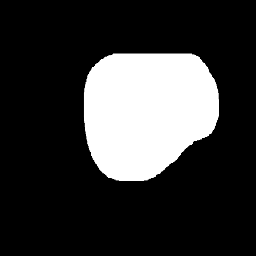mass: (90, 56, 213, 172)
